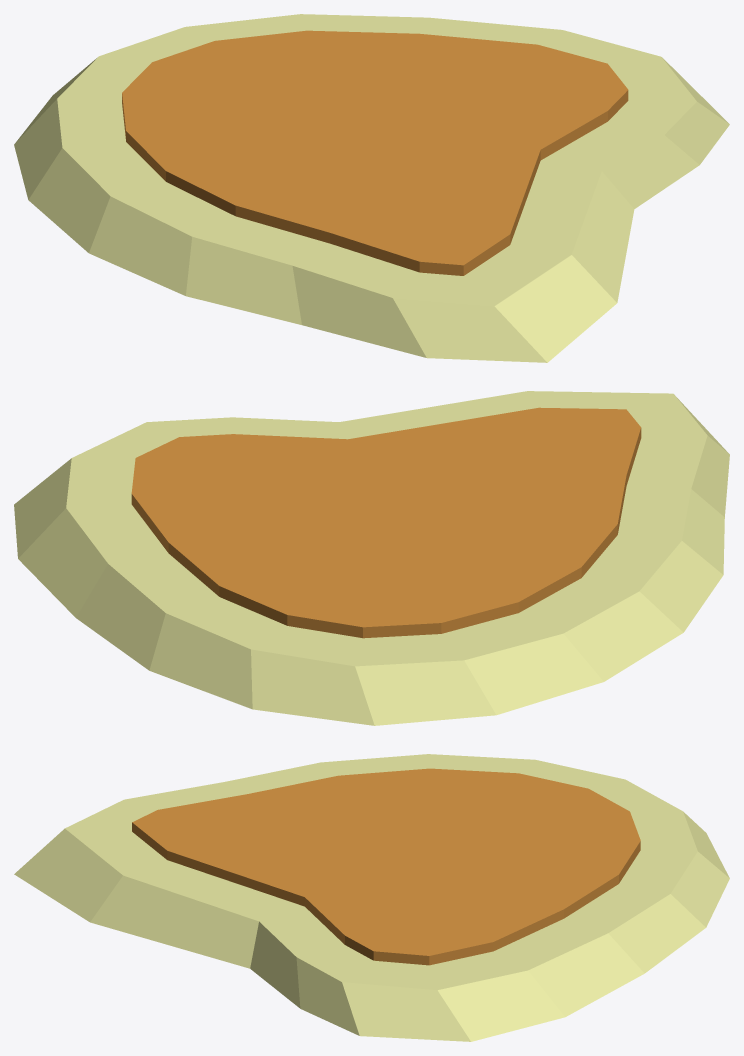
File: island01.fbx
3 views of the same model, one above another, from view 1: azimuth 30°, elevation 25°; view 2: azimuth 150°, elevation 25°; view 3: azimuth 270°, elevation 25° (orthographic). The views are drawn at different scales.
Parts seen in each view (by area): view 1: island_01; view 2: island_01; view 3: island_01.
Boxes of the visible parts, <box> form: island_01: <box>14,14,729,362</box>; island_01: <box>14,391,729,725</box>; island_01: <box>14,754,729,1041</box>.
Bounding box in the file's own units: 47.63 × 54.16 × 3.76.
